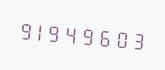four: (65, 18, 80, 49)
nine: (81, 19, 96, 51), (17, 14, 32, 45), (49, 17, 64, 48)
one: (33, 15, 48, 46)
six: (97, 21, 112, 52)
three: (129, 24, 144, 55)
zero: (113, 22, 128, 53)
